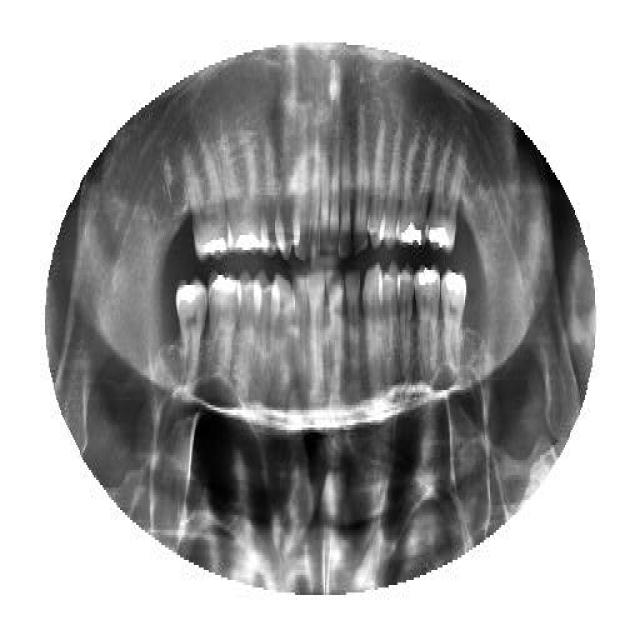Fillings: (188, 142, 232, 260), (423, 142, 468, 250), (221, 138, 264, 250), (395, 132, 433, 250), (208, 275, 244, 385), (176, 280, 208, 375), (414, 265, 441, 377), (442, 270, 468, 370)
